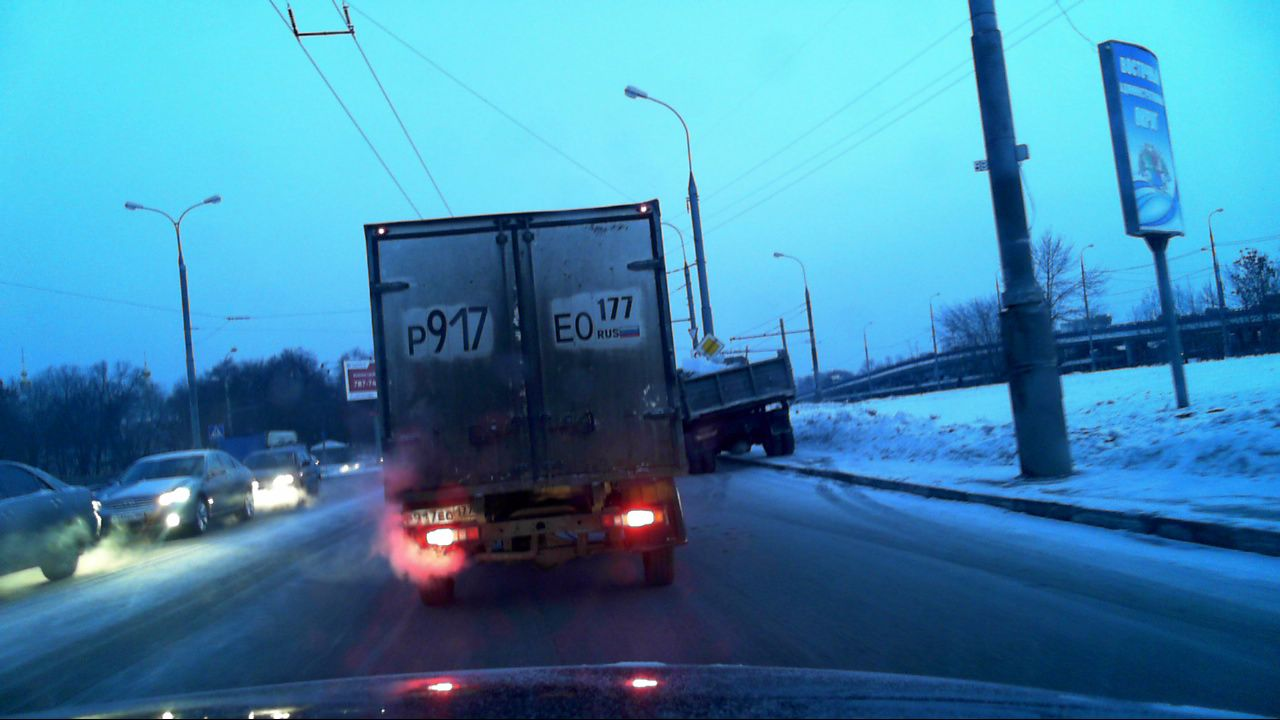main road: (696, 332, 725, 361)
